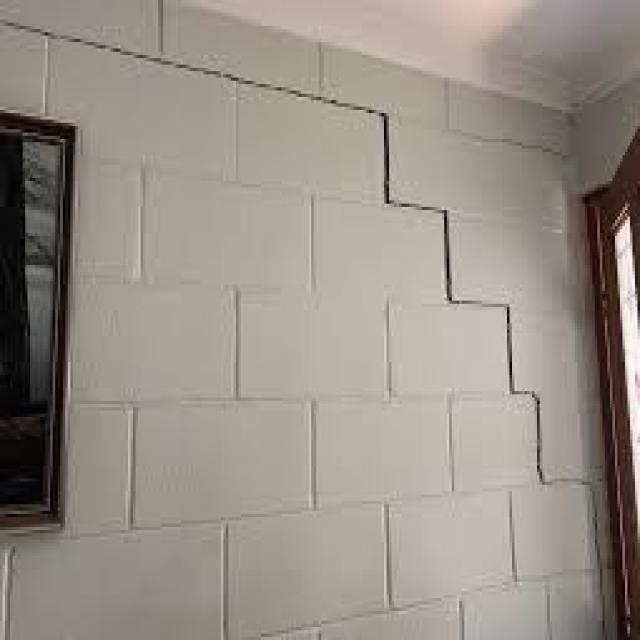Crack: (0, 13, 607, 637)
